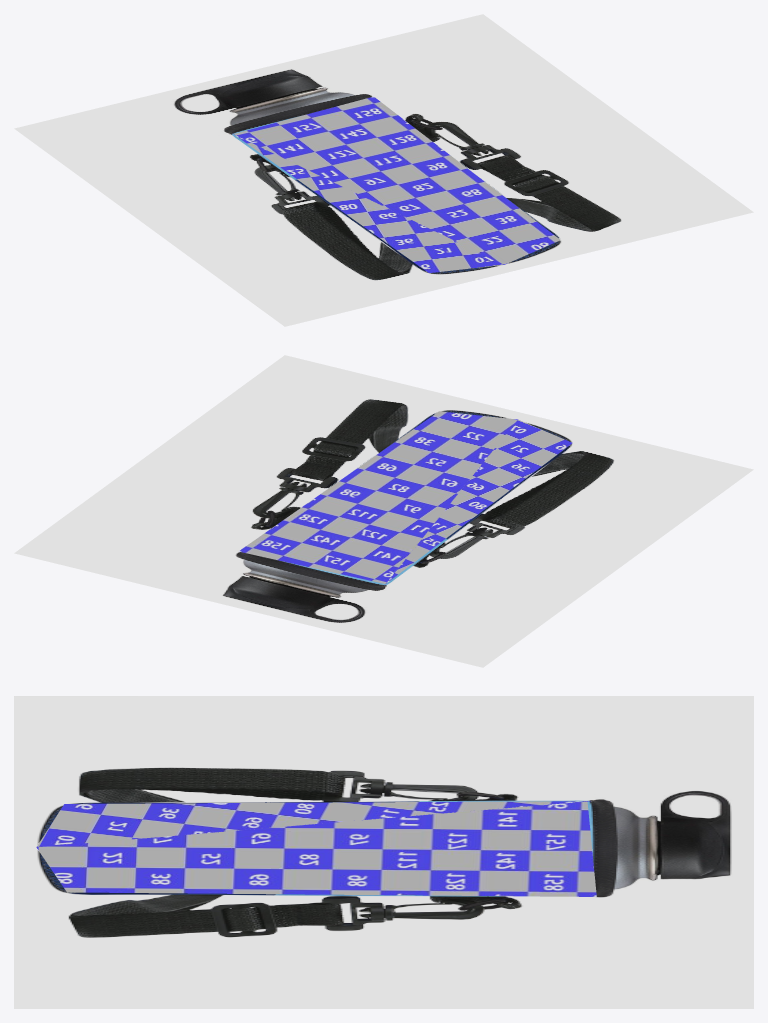
The picture shows the model from 3 angles, top to bottom: view 1: azimuth 30°, elevation 25°; view 2: azimuth 150°, elevation 25°; view 3: azimuth 270°, elevation 25°; orthographic projection. The views are drawn at different scales.
Parts seen in each view (by area): view 1: 大水壶袋@@@@@4a0cfbf0443947a192fb961dd7806555, BezierCurve; view 2: 大水壶袋@@@@@4a0cfbf0443947a192fb961dd7806555, BezierCurve; view 3: 大水壶袋@@@@@4a0cfbf0443947a192fb961dd7806555, BezierCurve.
Part boxes in pixels (x1=…): 大水壶袋@@@@@4a0cfbf0443947a192fb961dd7806555: x1=14, y1=14, x2=753, y2=326; BezierCurve: x1=232, y1=96, x2=560, y2=272; 大水壶袋@@@@@4a0cfbf0443947a192fb961dd7806555: x1=14, y1=355, x2=753, y2=667; BezierCurve: x1=238, y1=411, x2=572, y2=584; 大水壶袋@@@@@4a0cfbf0443947a192fb961dd7806555: x1=14, y1=696, x2=753, y2=1008; BezierCurve: x1=36, y1=801, x2=596, y2=896.
Bounding box in the file's own units: 10.61 × 0.01 × 10.61.
2 materials, 2 textured.
